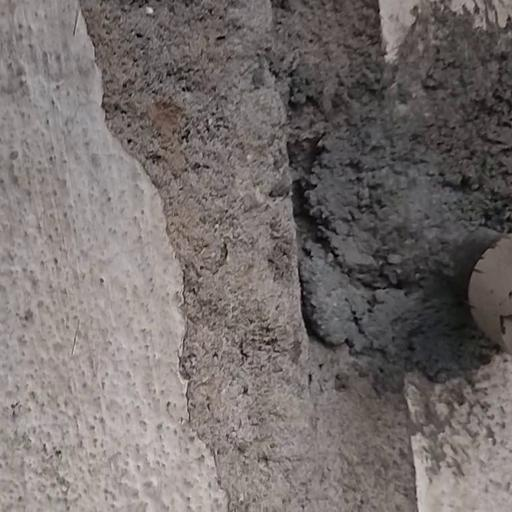spalling: (91, 0, 503, 512)
